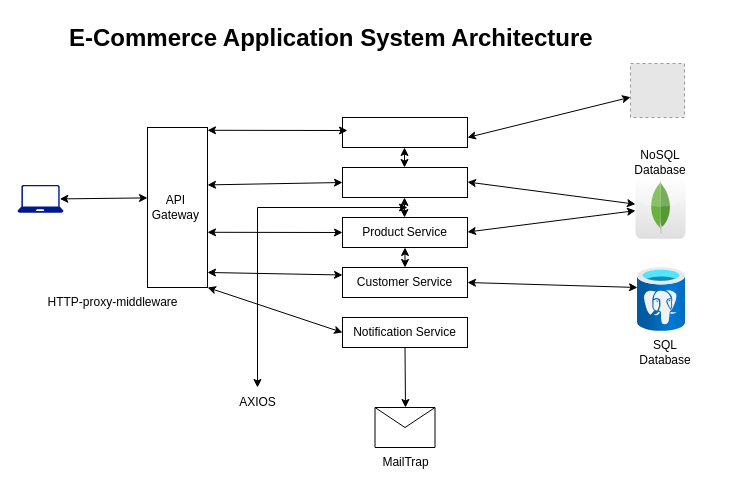
Image size: 734x494. Some labels were removed from this diagram. Grey dashed boxes stand in for pictures. Each missing label, with the centre of its shape:
"Order Service" goes at (405,182).
"UI Service" goes at (405,132).
